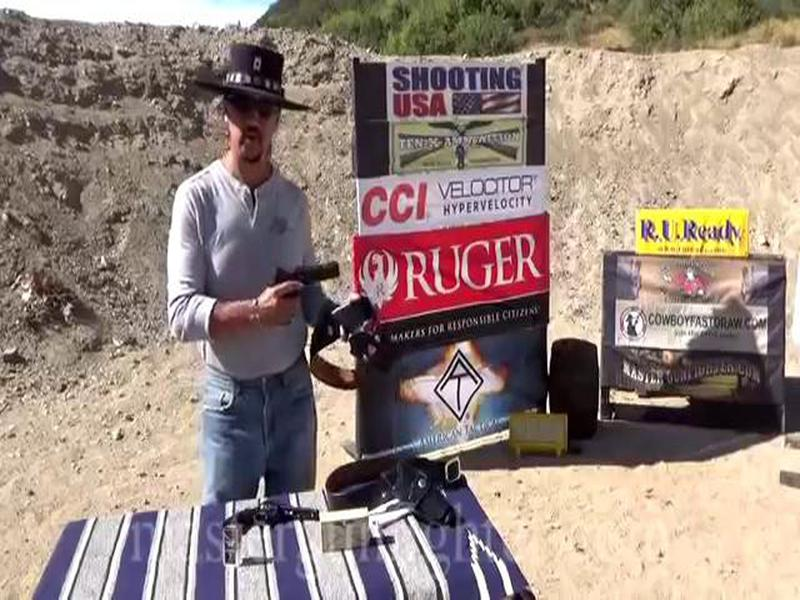Pistola: (250, 262, 357, 338)
